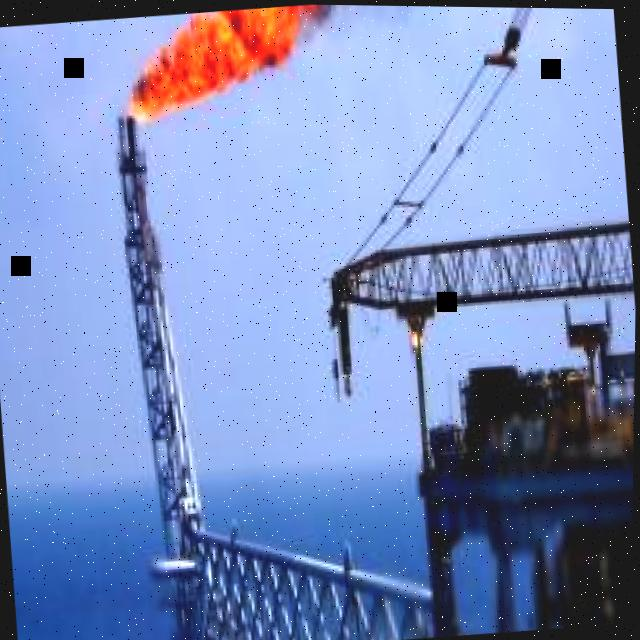fire: (132, 4, 327, 120)
